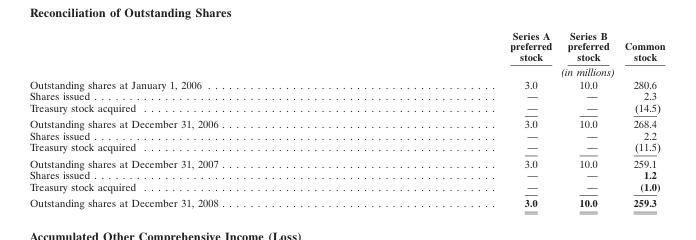table: (28, 29, 664, 208)
table column: (28, 29, 363, 208), (363, 29, 558, 208), (558, 29, 616, 208), (616, 29, 664, 208)
table column header: (28, 29, 664, 77)
table row: (28, 29, 664, 63), (28, 63, 664, 77), (28, 101, 664, 115), (28, 115, 664, 129), (28, 140, 664, 154), (28, 154, 664, 168), (28, 180, 664, 194), (28, 194, 664, 208), (28, 77, 664, 89), (28, 89, 664, 101), (28, 168, 664, 180), (28, 129, 664, 140)
table spanning cell: (363, 63, 664, 77)
